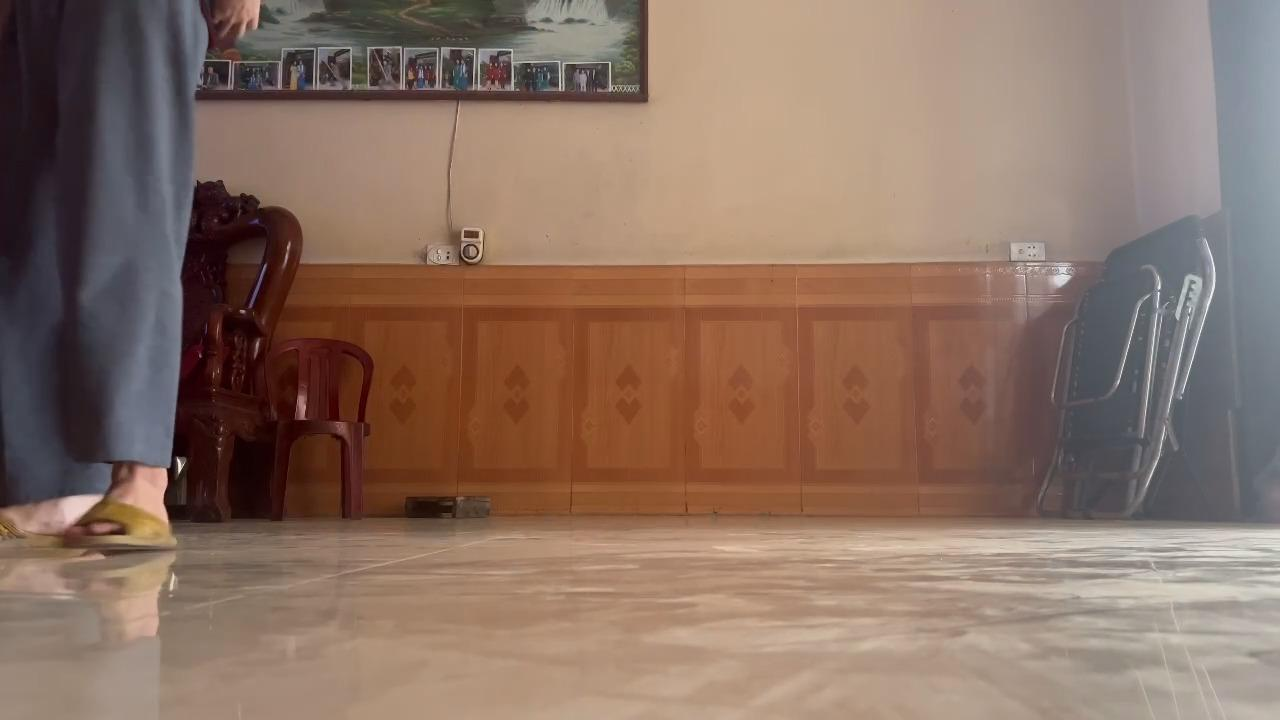no-boot: (65, 487, 189, 556), (0, 486, 95, 550)
